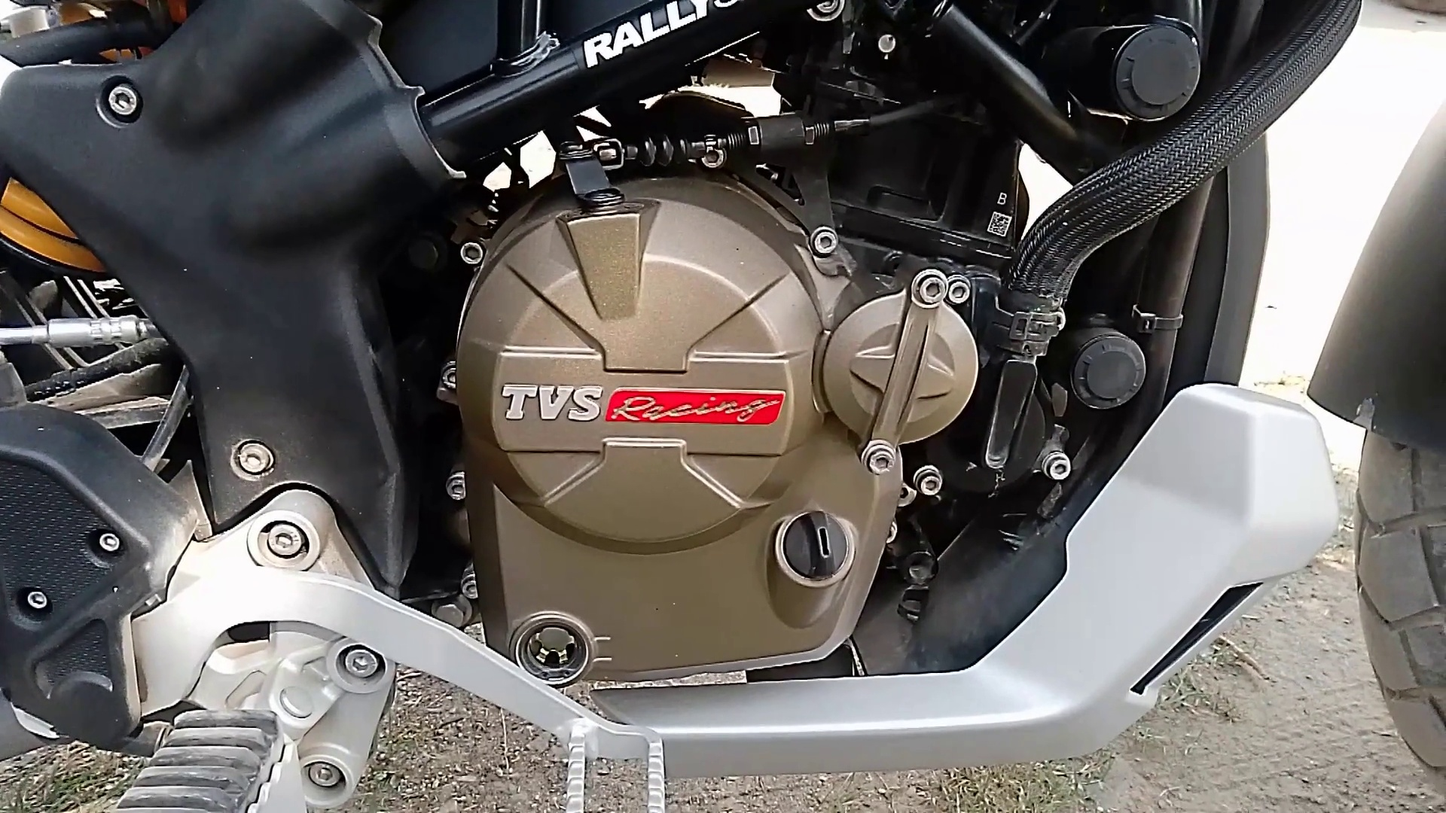bike-engine: (455, 170, 976, 688)
bike-engine-level: (504, 602, 596, 696)
bike-oil-cap: (764, 503, 869, 590)
